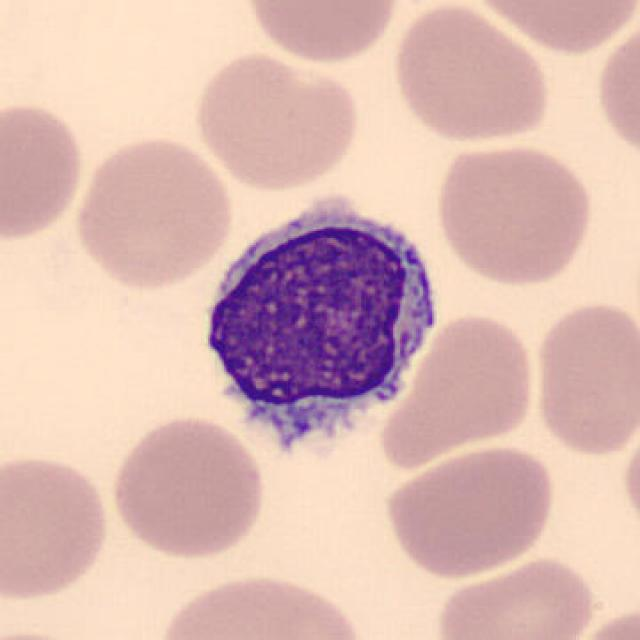Lymphocyte: (186, 187, 450, 474)
RBC: (373, 309, 542, 469), (70, 132, 236, 293), (377, 441, 560, 580), (188, 48, 362, 194), (105, 411, 270, 562), (432, 139, 597, 289), (387, 0, 554, 146), (526, 295, 638, 460), (0, 449, 114, 606), (151, 567, 369, 640), (432, 553, 599, 640), (0, 97, 87, 245), (240, 0, 402, 67), (465, 0, 636, 56), (592, 9, 638, 167), (562, 597, 640, 640), (617, 414, 640, 546)
